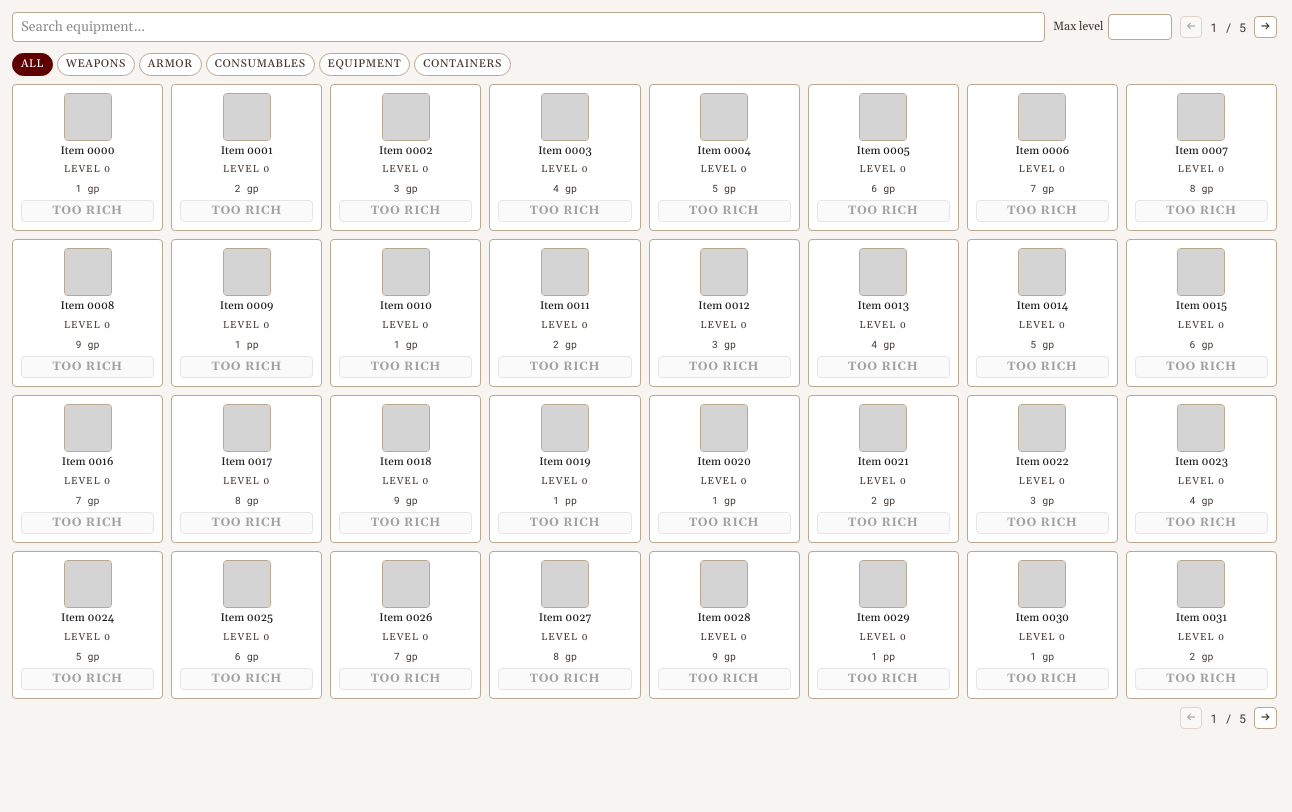
ItemShopPicker — pagination › resets to page 0 when the search query changes
The width and height of the screenshot is (1292, 812).
Click the button with test id "pagination-next" in the row of "Max level" at x=1266, y=27, box [1254, 16, 1277, 38]
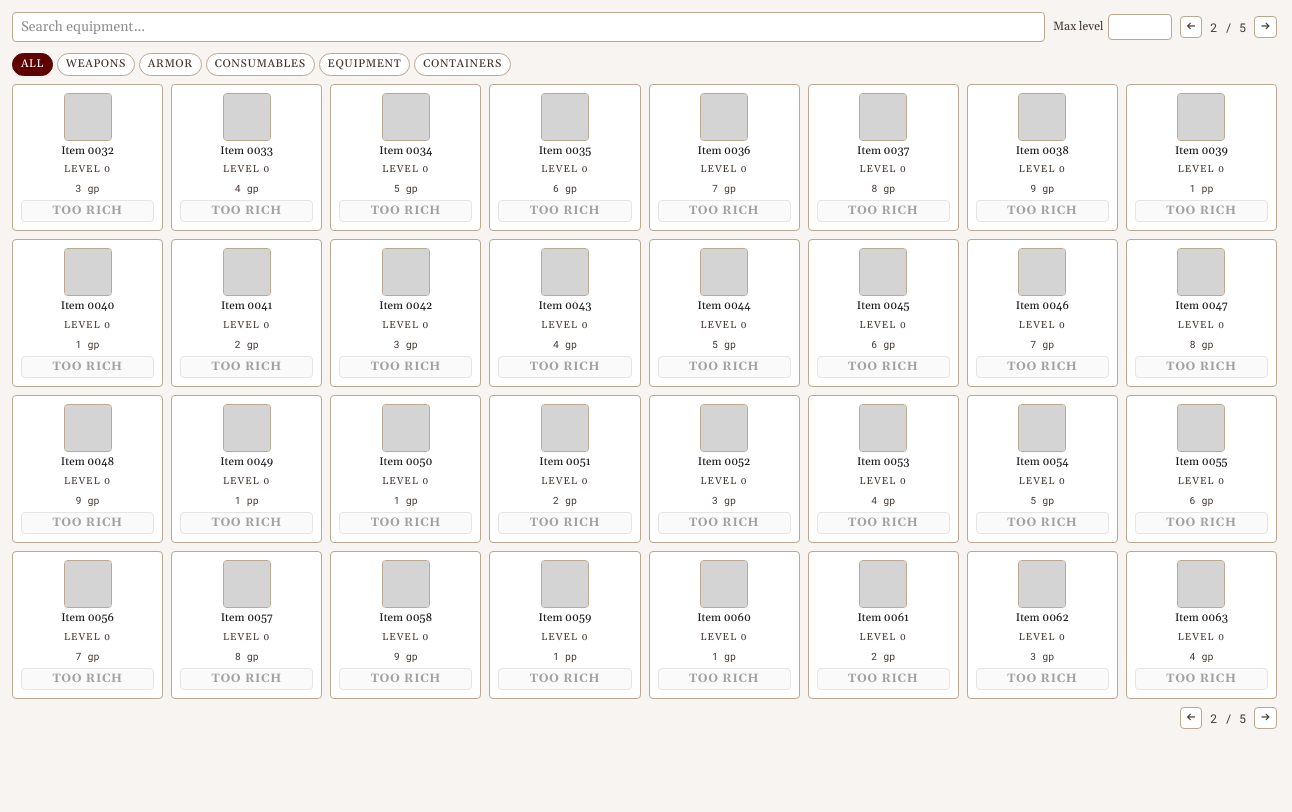
Type "sword" into the search field with test id "shop-search" at x=528, y=27, box [12, 12, 1045, 42]
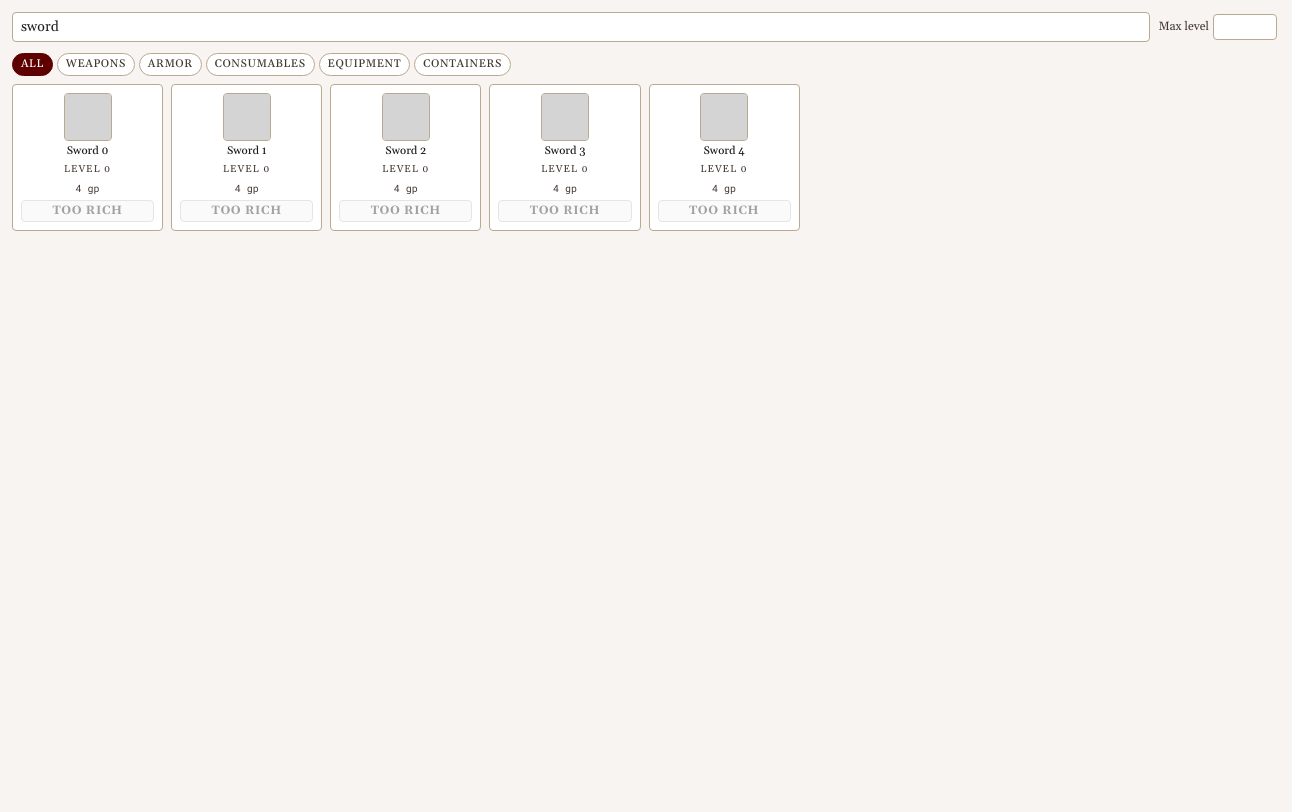
Result: the button "Sword 0 Level 0 4 gp Too rich" is shown at [12, 84, 163, 231]
Result: the button with test id "pagination-next" is gone
